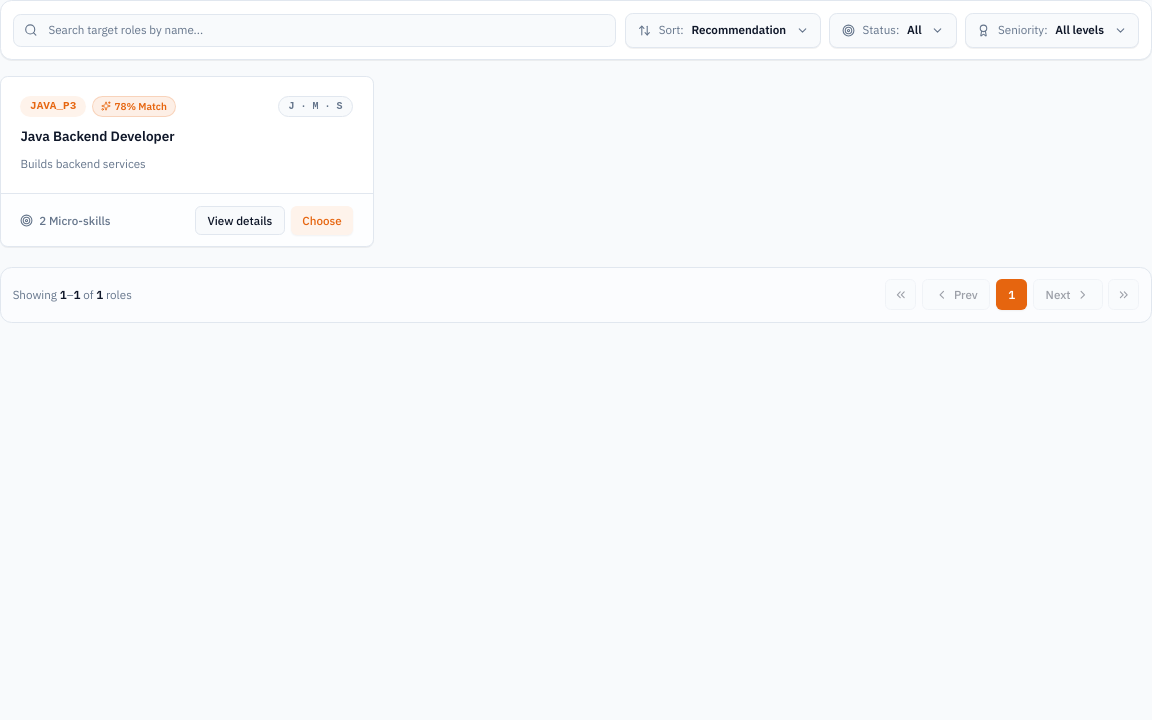
Test case: TargetRoleBrowsePanel › preserves browse data and detail assertions while exposing an eligible selection action
expect the heading "Java Backend Developer" is shown: met, box [20,127,175,145]
expect the button "Choose" is shown: met, box [291,206,353,235]
Click the button "View details".
click(240, 220)  # box [195,206,285,235]
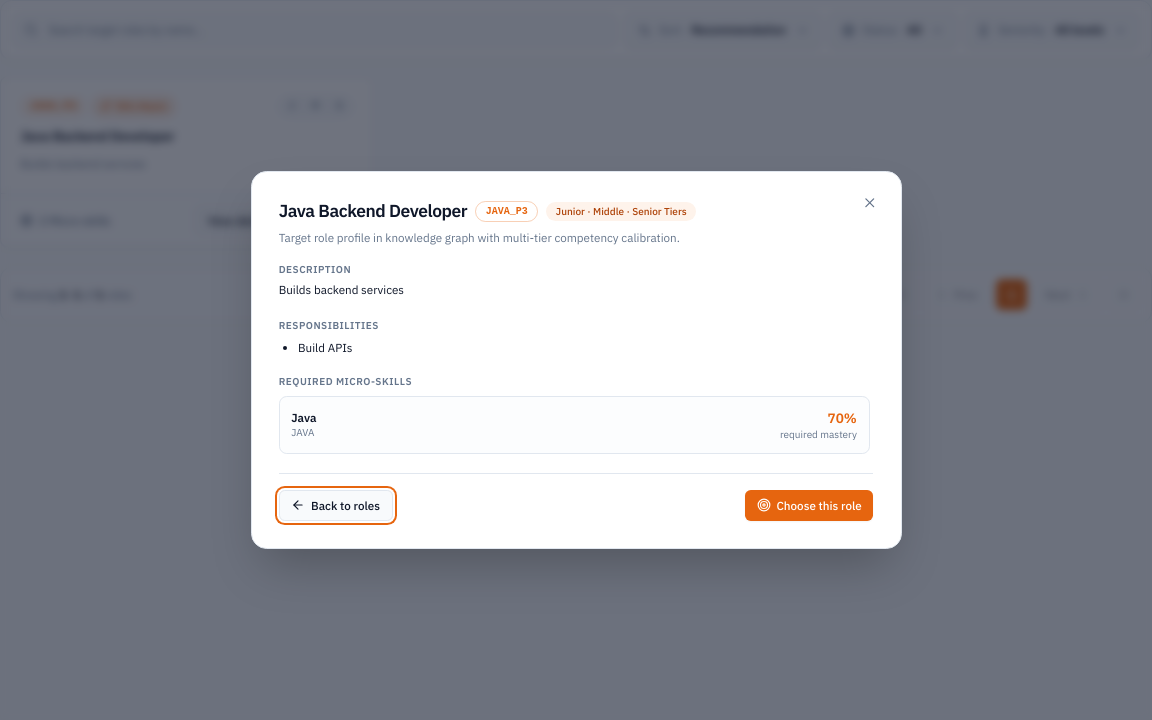
expect the list item "Build APIs" is shown: met, box [298,340,352,355]
expect the text "70%" is shown: met, box [828,408,857,426]
